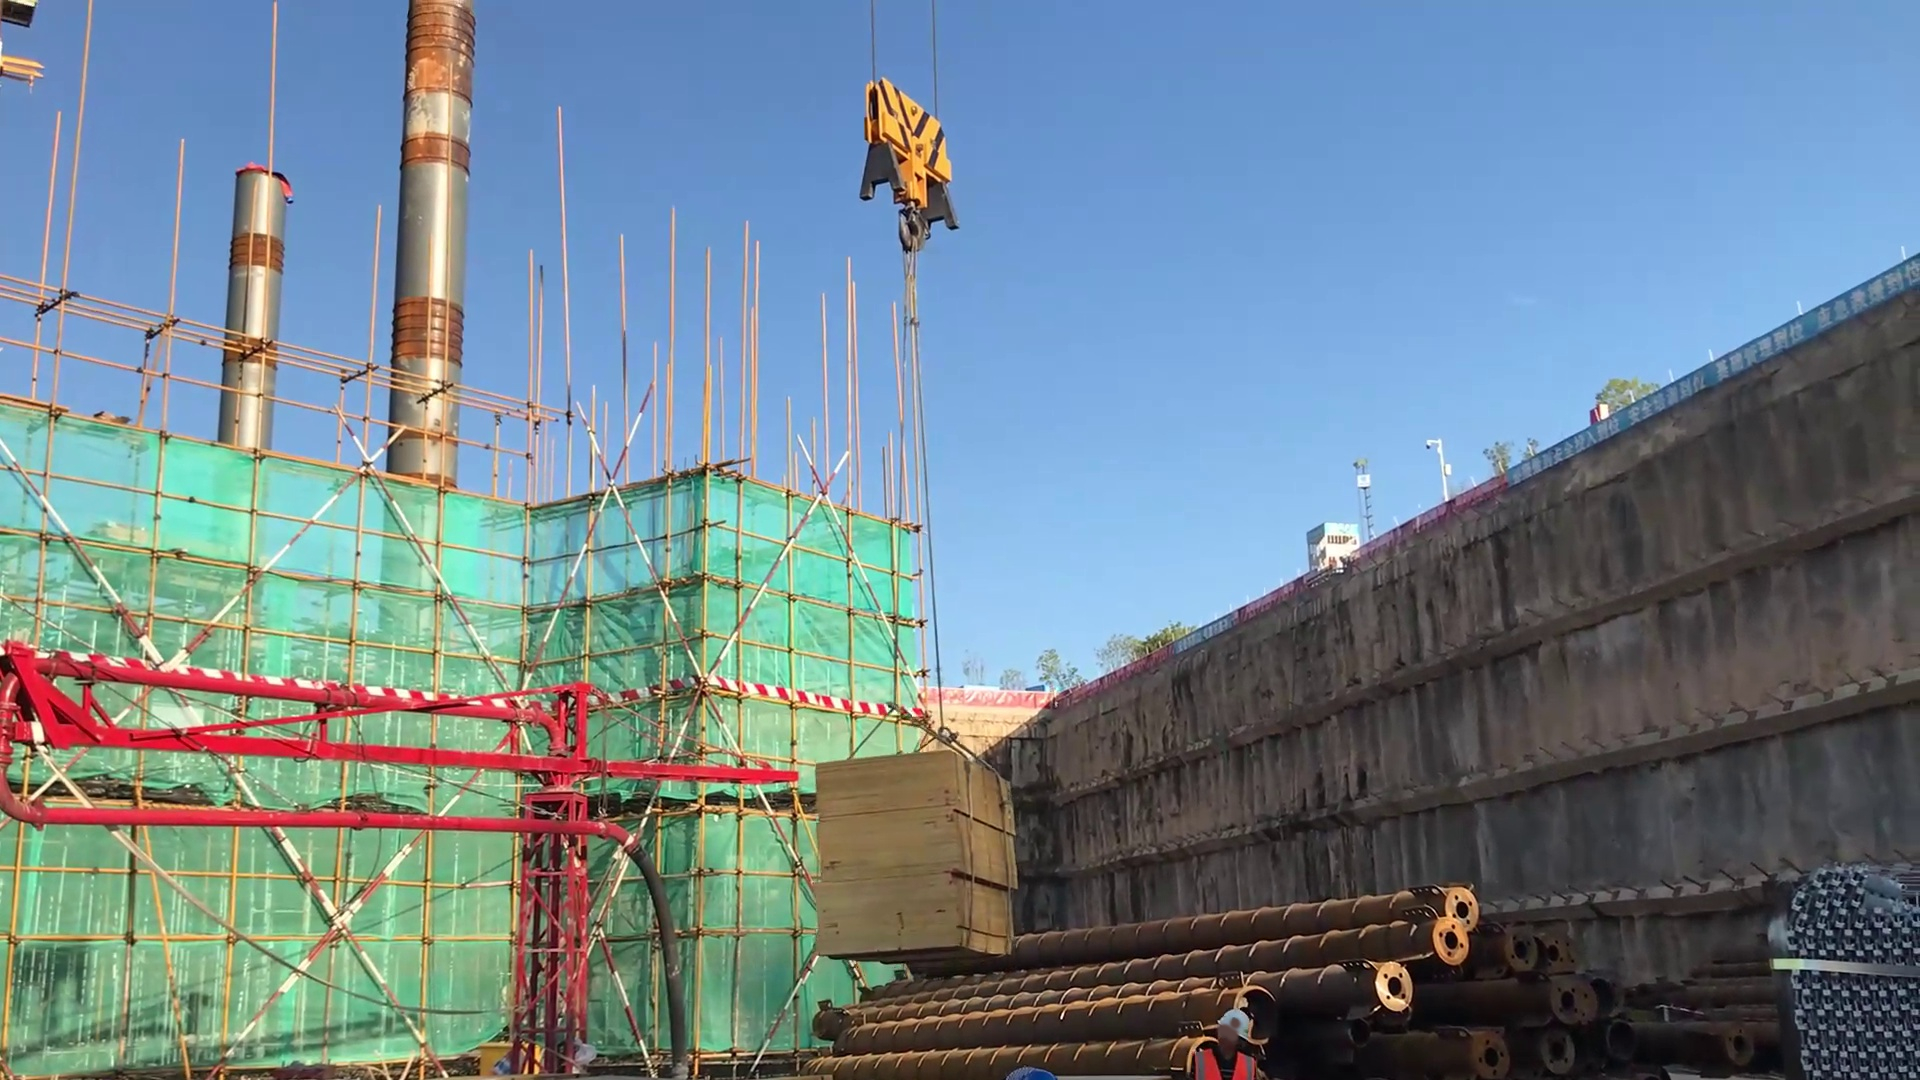board: (815, 749, 1012, 974)
helmet: (1211, 1005, 1256, 1052)
hook: (844, 51, 976, 355)
person: (1194, 993, 1286, 1080)
scaffold: (1769, 842, 1919, 1080)
slogan: (1487, 238, 1912, 513), (1163, 609, 1245, 673)
vest: (1195, 1047, 1264, 1080)
